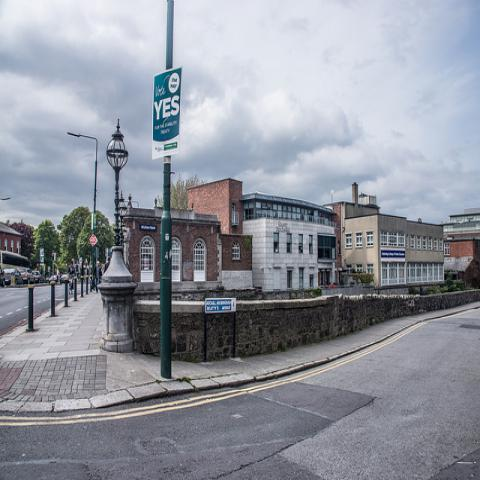bus: (0, 250, 32, 271)
car: (3, 268, 24, 284), (18, 268, 34, 283), (33, 271, 42, 284), (60, 272, 68, 285), (48, 275, 58, 283), (40, 274, 45, 283), (45, 276, 50, 284)
